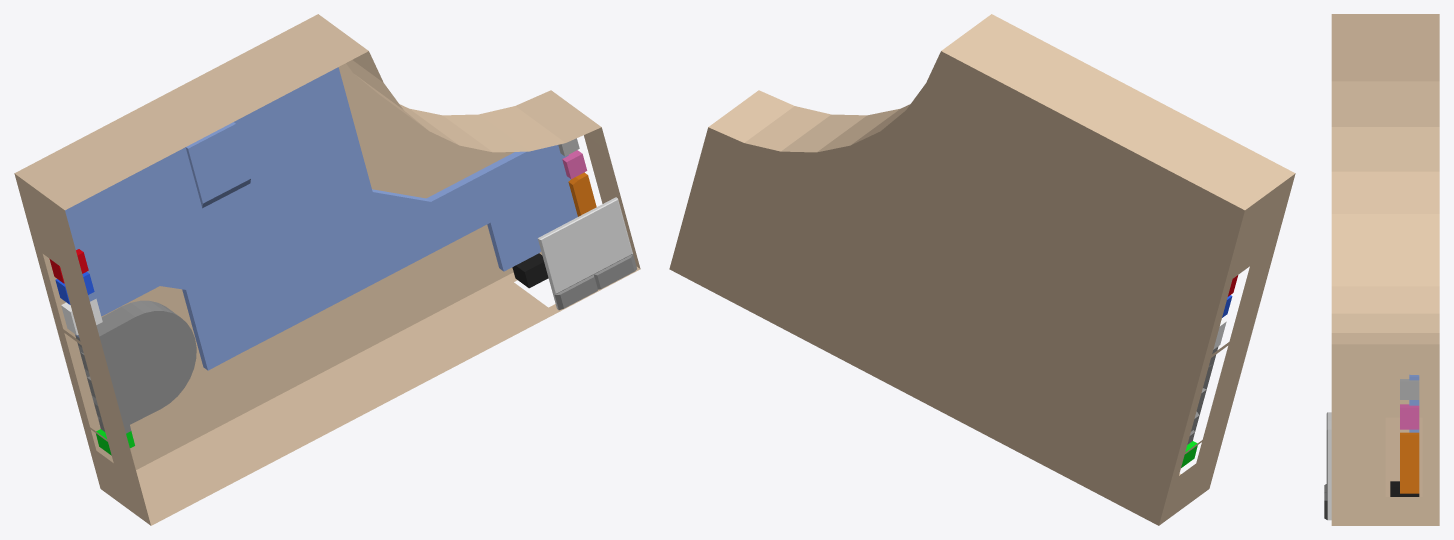
The model's file is media-pc-model-2-case-only.fbx.
3 renders of one model, left to right at view 1: azimuth 30°, elevation 25°; view 2: azimuth 150°, elevation 25°; view 3: azimuth 270°, elevation 25°, orthographic. The views are drawn at different scales.
Parts seen in each view (by area): view 1: Case, Circuit Board, Mouseppad; view 2: Case, Circuit Board; view 3: Case, Circuit Board, Mouseppad.
Part boxes in pixels (x1,y1,x2,y2): Case: (14,14,640,525); Circuit Board: (49,67,596,455); Mouseppad: (537,197,636,310); Case: (669,14,1295,525); Circuit Board: (1181,275,1238,467); Case: (1331,14,1439,525); Circuit Board: (1390,374,1419,496); Mouseppad: (1324,412,1331,520).
Size of the model in its own units: 354 by 248 by 57.67.
